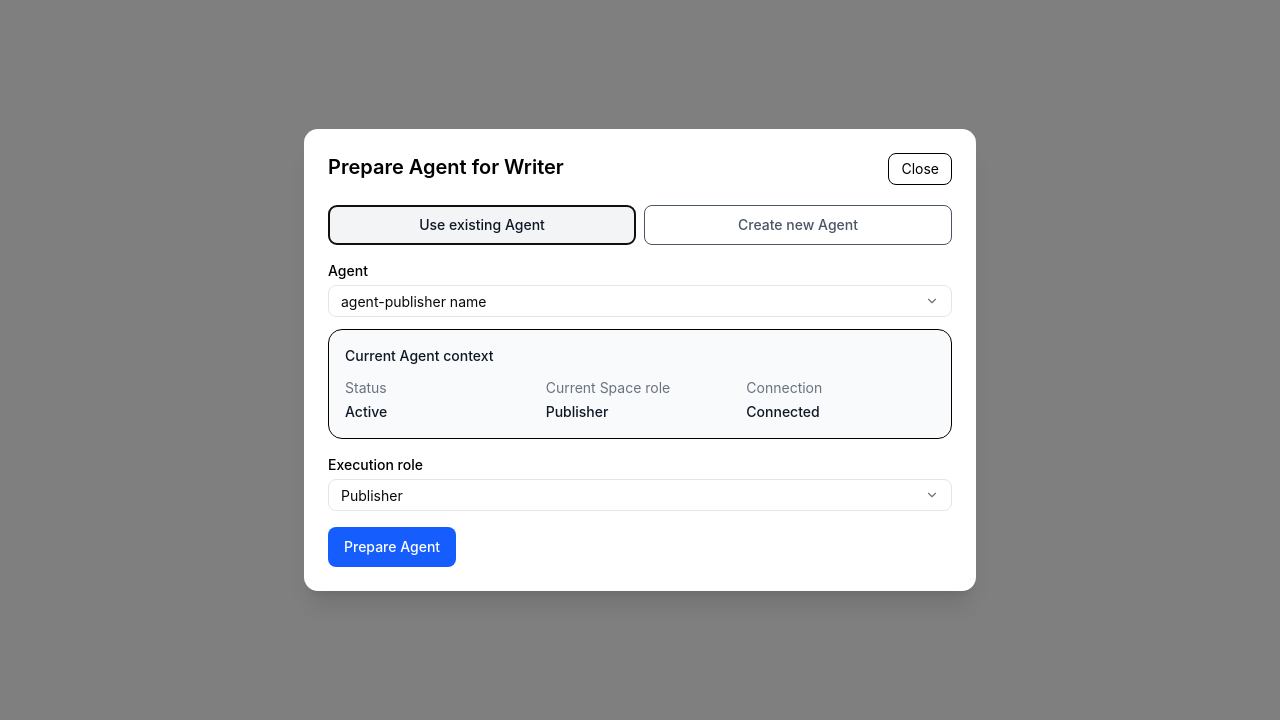
AgentPreparationDialog › does not let the detail effect replace durable retry role or Agent
Select "Editor" in the dropdown labelled "Execution role". click: (640, 495)
box: [328, 479, 952, 511]
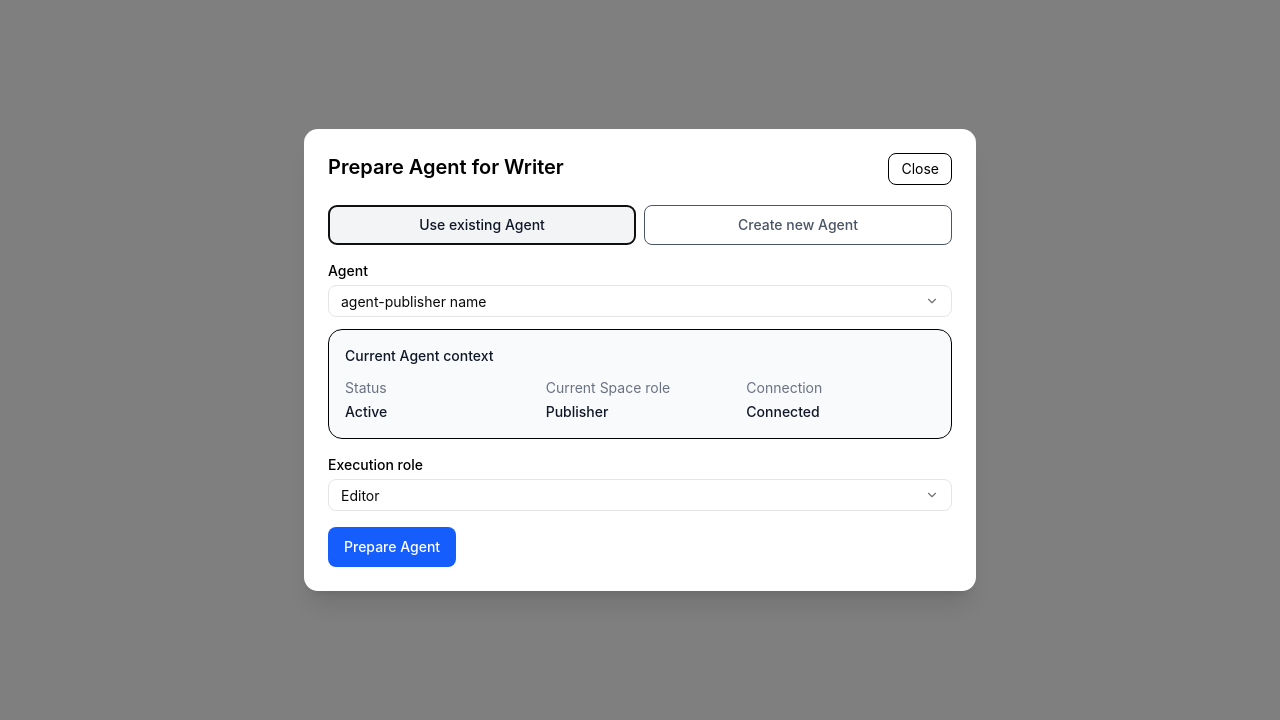
Expected: the dropdown labelled "Agent" is shown, [328, 285, 952, 317]
Click the button "Prepare Agent". click: (392, 547)
box: [328, 527, 456, 567]
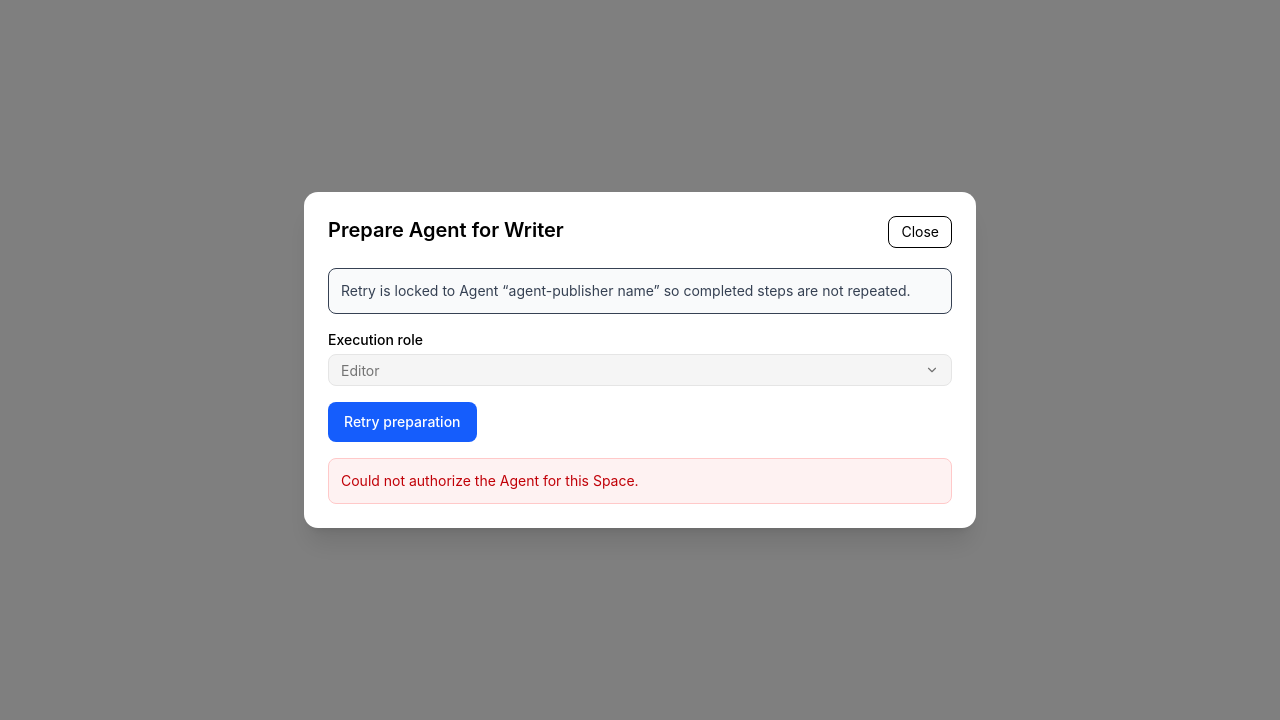
Now the text "Retry is locked to Agent “agent-publisher name” so completed steps are not repeated." is shown, box [341, 282, 911, 299]
Now the dropdown labelled "Execution role" is disabled, box [328, 354, 952, 386]
